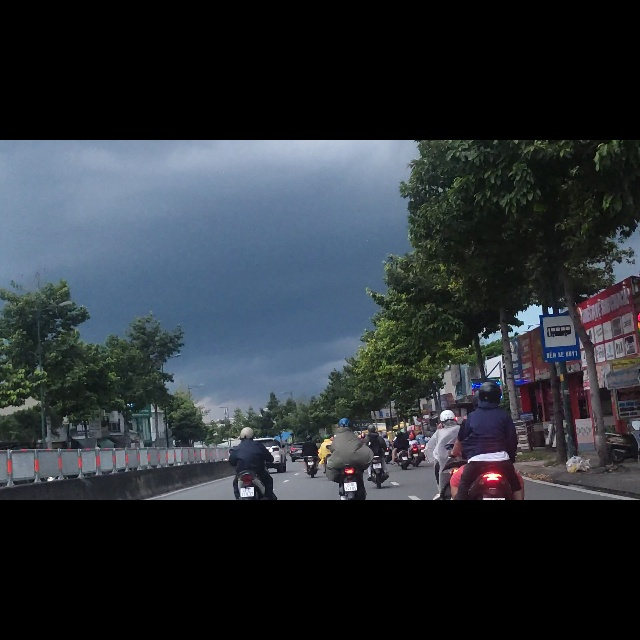bien_nguy_hiem: (538, 306, 583, 393)
